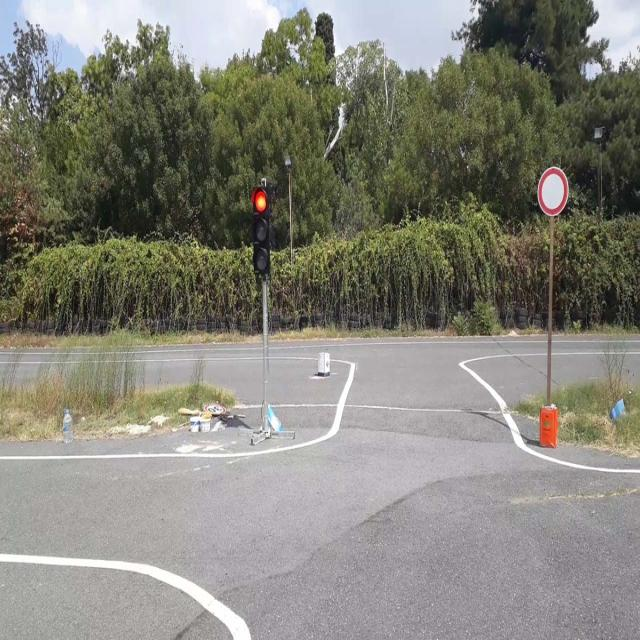kirmizi: (252, 186, 269, 273)
